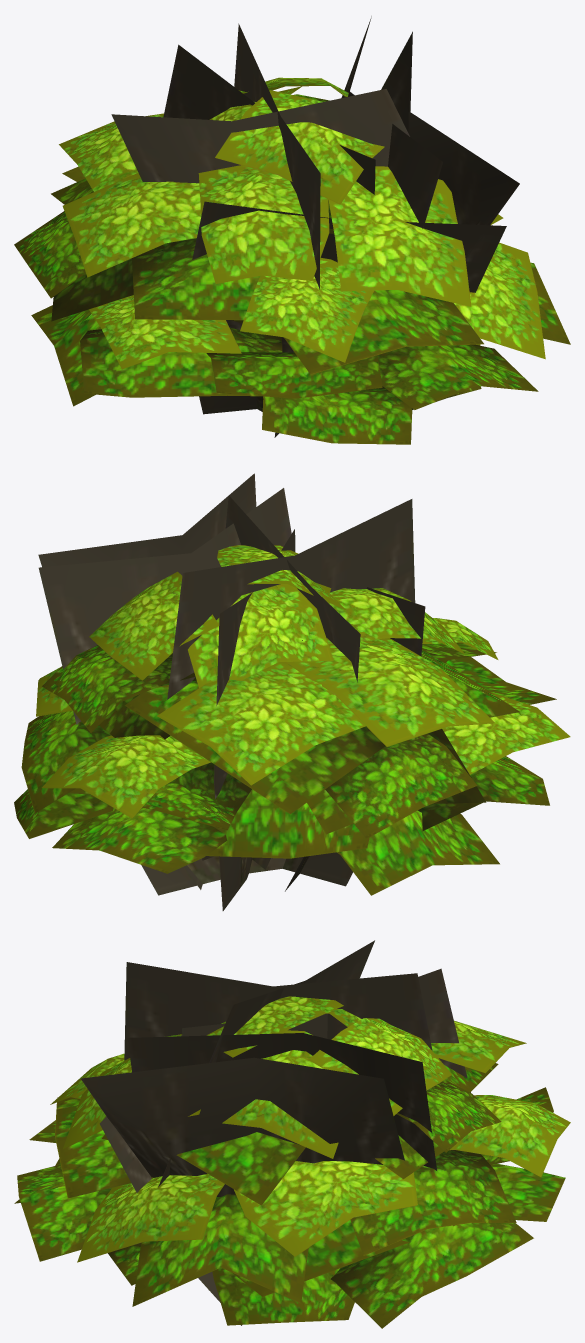
Rendered from map_xuanren_shu_3.fbx.
3 views of the same model, one above another, from view 1: azimuth 30°, elevation 25°; view 2: azimuth 150°, elevation 25°; view 3: azimuth 270°, elevation 25° (orthographic). The views are drawn at different scales.
Parts seen in each view (by area): view 1: wulin_kzjy_sw_guanmu05; view 2: wulin_kzjy_sw_guanmu05; view 3: wulin_kzjy_sw_guanmu05.
Part boxes in pixels (left/top/right/bottom): wulin_kzjy_sw_guanmu05: left=14, top=16, right=570, bottom=444; wulin_kzjy_sw_guanmu05: left=14, top=473, right=570, bottom=910; wulin_kzjy_sw_guanmu05: left=14, top=940, right=570, bottom=1328.
Size of the model in its own units: 0.6992 by 0.4902 by 0.7649.
